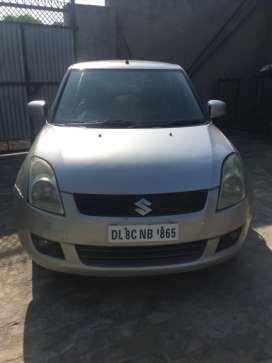license_plate: (109, 223, 179, 243)
